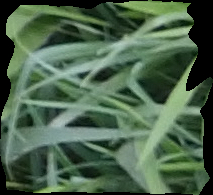grass: (1, 1, 212, 194)
